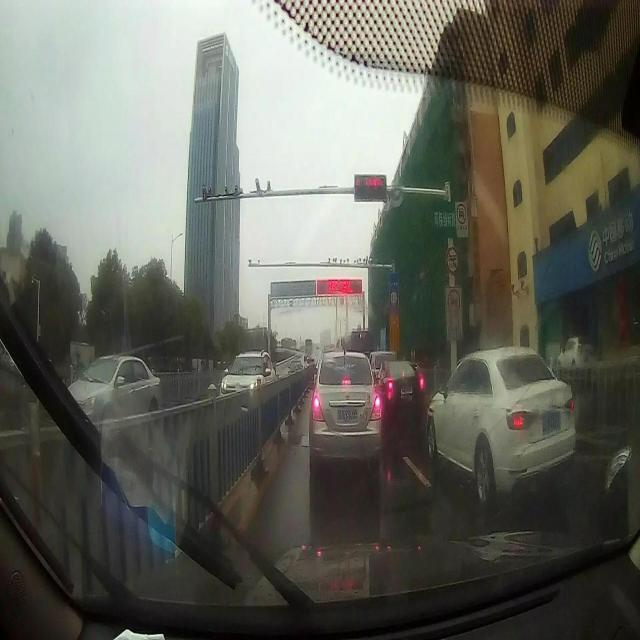car: (426, 351, 576, 504), (309, 352, 382, 468), (62, 352, 162, 433), (218, 348, 276, 420), (376, 354, 426, 426)
